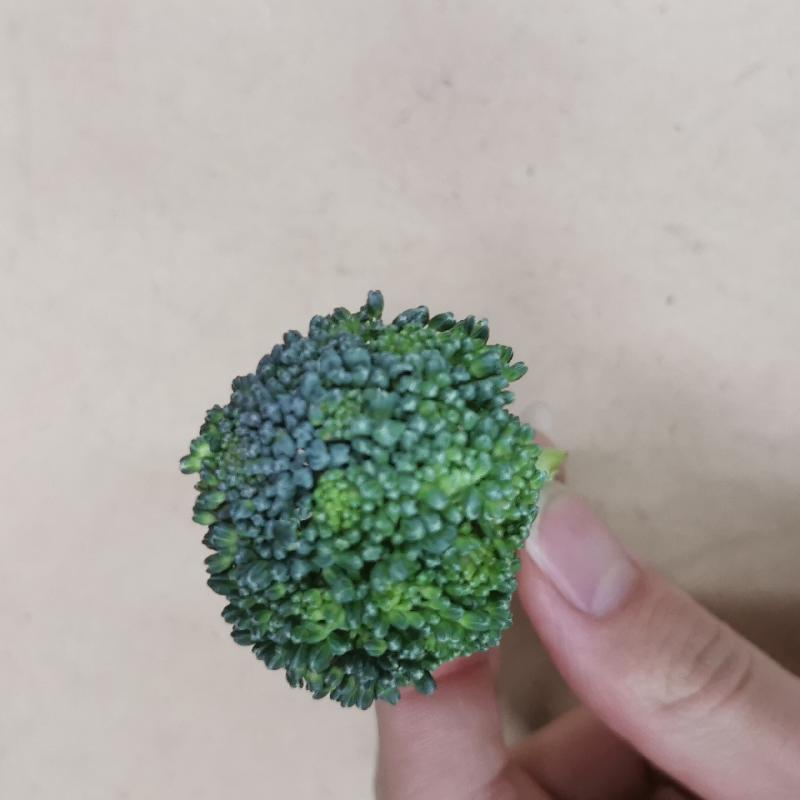broccoli: (172, 285, 570, 710)
